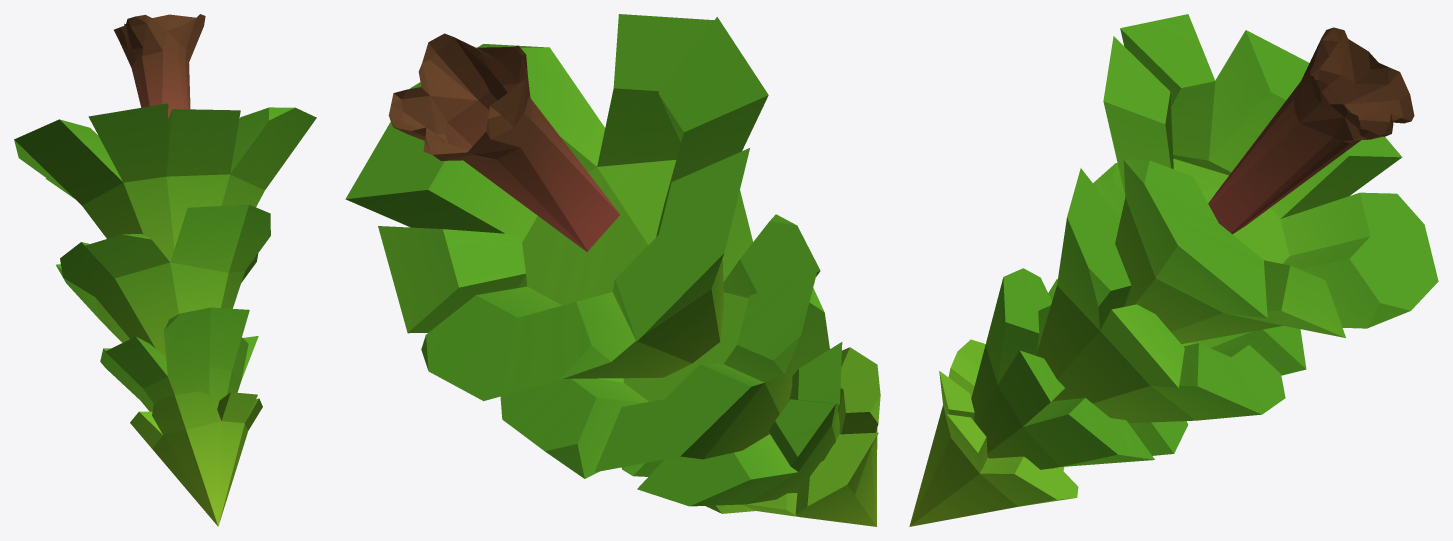
File: Tree1(Polybrush Clone).fbx
3 renders of one model, left to right at view 1: azimuth 30°, elevation 25°; view 2: azimuth 150°, elevation 25°; view 3: azimuth 270°, elevation 25°, orthographic. The views are drawn at different scales.
Visible parts, largest first — view 1: Tree1(Polybrush Clone); view 2: Tree1(Polybrush Clone); view 3: Tree1(Polybrush Clone).
Boxes of the visible parts, <box> form: Tree1(Polybrush Clone): <box>14,14,316,526</box>; Tree1(Polybrush Clone): <box>345,14,880,526</box>; Tree1(Polybrush Clone): <box>909,14,1438,526</box>.
Bounding box in the file's own units: 3.06 × 4.39 × 3.84.
